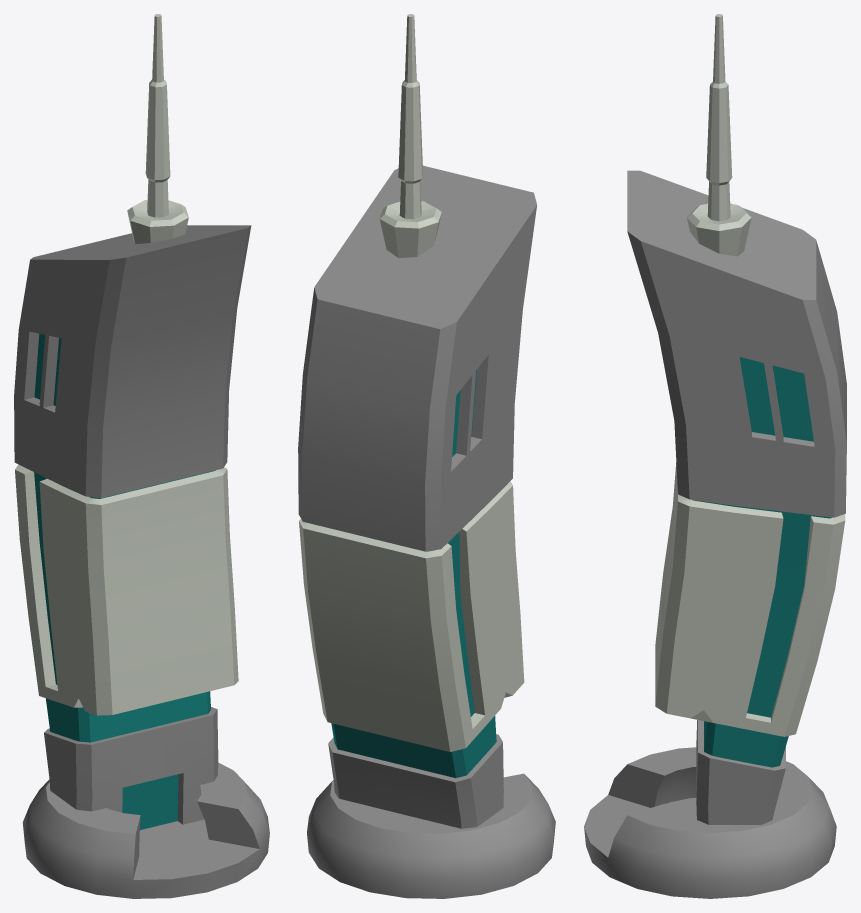
The model's file is SM_skyscraper_B.fbx.
3 views of the same model, side by side, from view 1: azimuth 30°, elevation 25°; view 2: azimuth 150°, elevation 25°; view 3: azimuth 270°, elevation 25° (orthographic).
Visible parts, largest first — view 1: polySurface2; view 2: polySurface2; view 3: polySurface2.
Boxes of the visible parts, box(x1,y1,x2,y2) form: polySurface2: box(14, 14, 269, 898); polySurface2: box(298, 14, 555, 898); polySurface2: box(584, 14, 846, 898).
Bounding box in the file's own units: 46.07 × 169 × 47.93.
